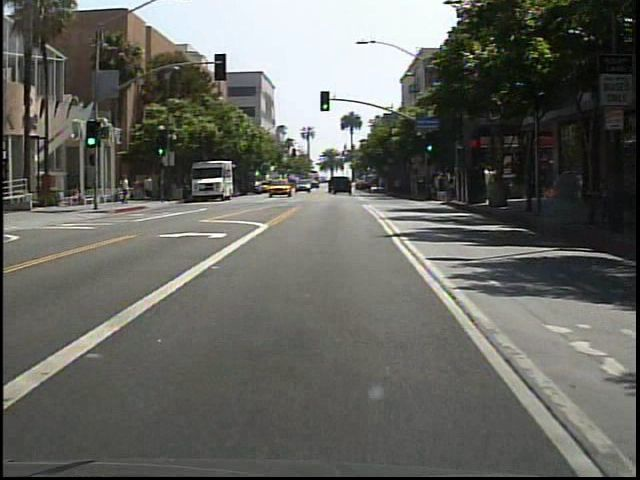person: (119, 175, 133, 207), (145, 173, 158, 202), (71, 183, 86, 207), (131, 177, 144, 201)
